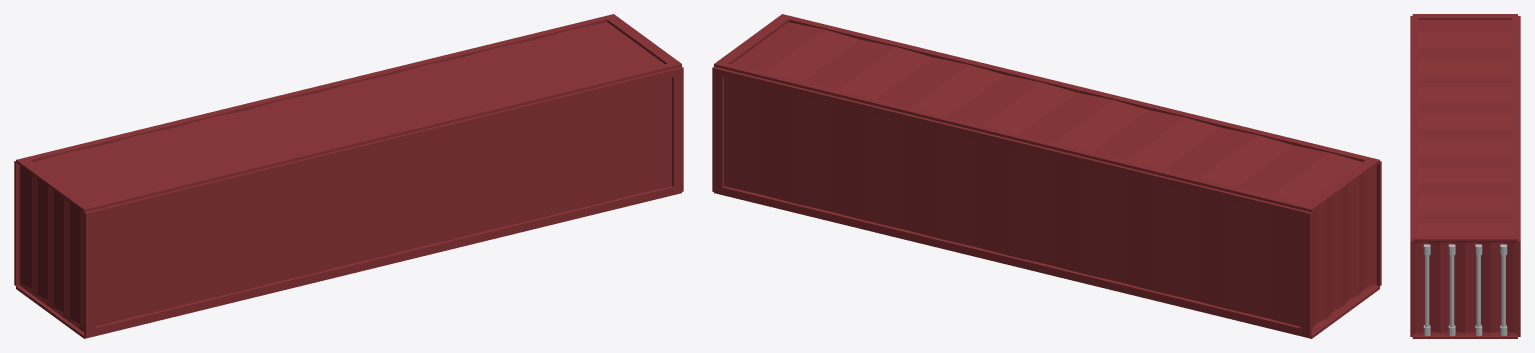
The model's file is ContainerFechado_A01.fbx.
3 renders of one model, left to right at view 1: azimuth 30°, elevation 25°; view 2: azimuth 150°, elevation 25°; view 3: azimuth 270°, elevation 25°, orthographic. The views are drawn at different scales.
Parts seen in each view (by area): view 1: Counteiner; view 2: Counteiner; view 3: Counteiner, Cabo.
Part boxes in pixels (left/top/right/bottom): Counteiner: left=14, top=14, right=683, bottom=338; Counteiner: left=712, top=14, right=1381, bottom=338; Counteiner: left=1410, top=14, right=1520, bottom=338; Cabo: left=1423, top=244, right=1507, bottom=336.
Bounding box in the file's own units: 687 × 141 × 141.
